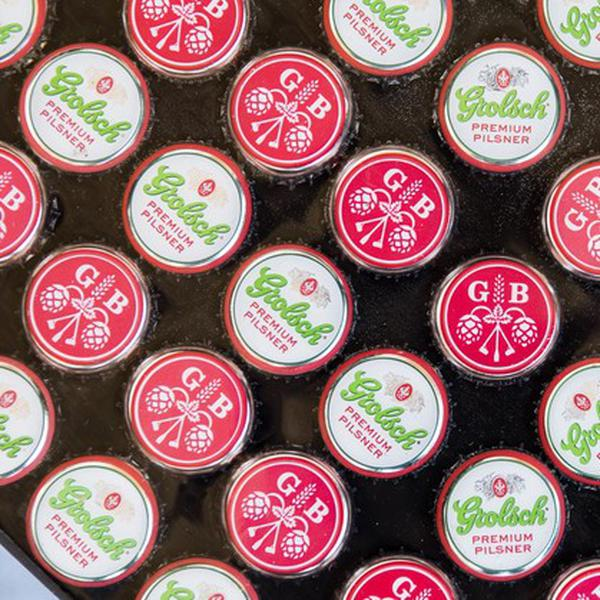grolsch: (124, 344, 256, 478), (326, 142, 457, 277), (226, 48, 351, 178), (24, 242, 146, 370), (224, 451, 347, 577), (432, 257, 558, 380), (122, 1, 248, 79)
